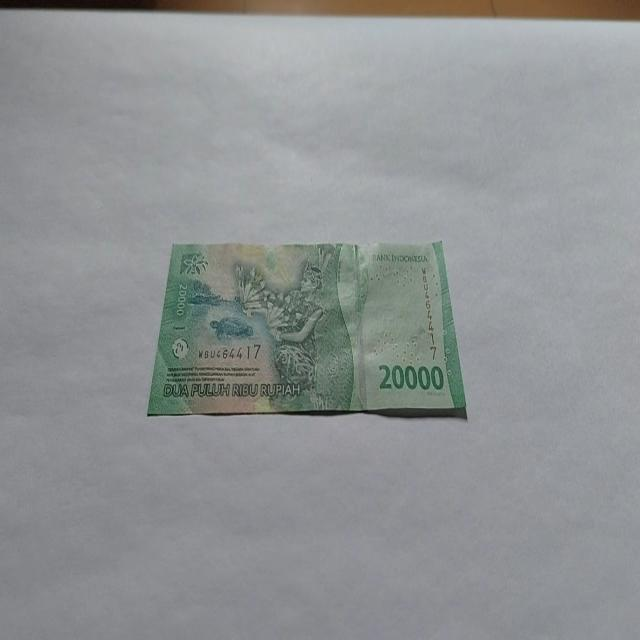dua puluh ribu rupiah: (146, 238, 468, 420)
